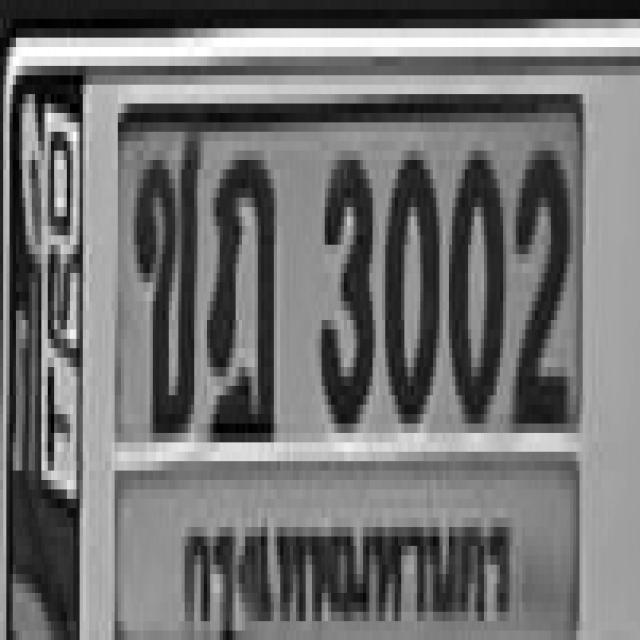0: (379, 135, 448, 461), (440, 145, 510, 465)
19ChorChang: (122, 99, 204, 452)
2: (511, 110, 576, 479)
23DorChaDa: (203, 125, 283, 465)
3: (307, 110, 383, 462)
Bangkok: (176, 456, 516, 640)
